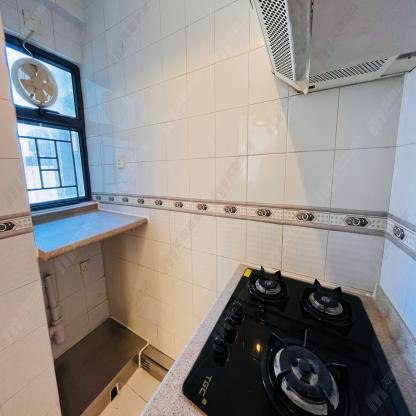Exhaust Fan: (7, 47, 63, 113)
Exhaust Hood: (252, 0, 416, 94)
Stove: (140, 262, 416, 416)
